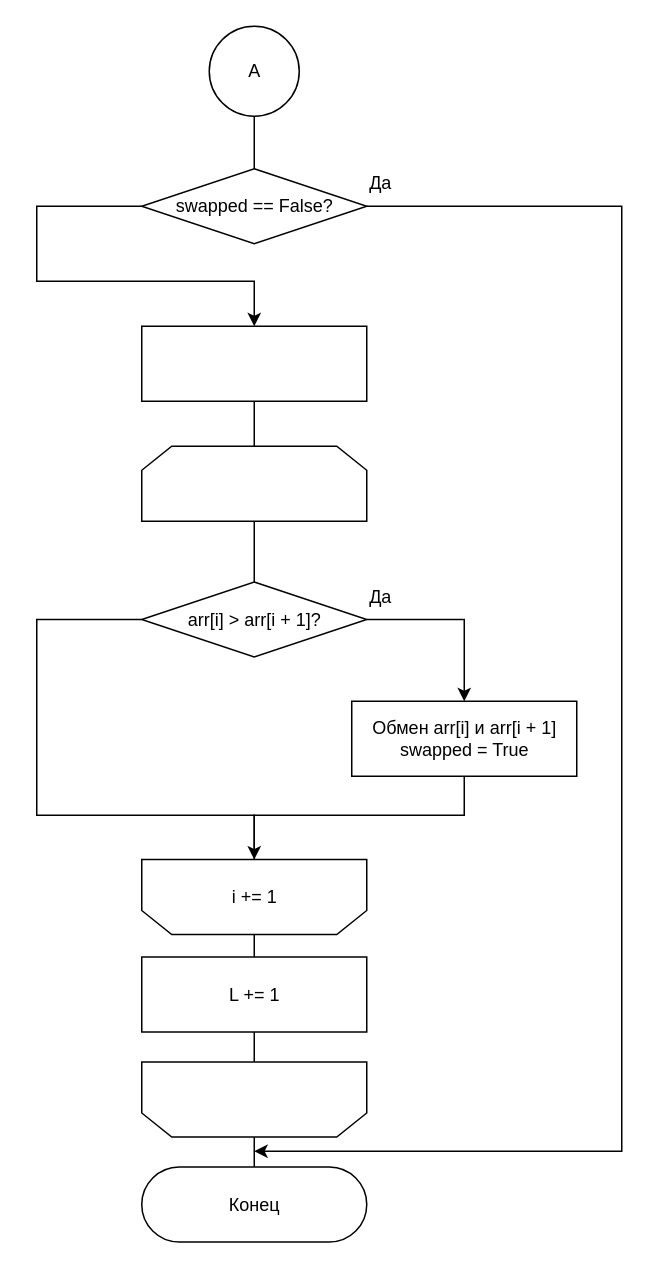
This 660x1269 diagram has some shape labels left out. The shapes that lost their labels are listed below. From the top down, each one's centre as x and y in pixels, then its label:
At (x=253, y=363): "swapped = False R -= 1".
At (x=253, y=483): "Цикл i от R до L".
At (x=253, y=1098): "Пока swapped == True".
